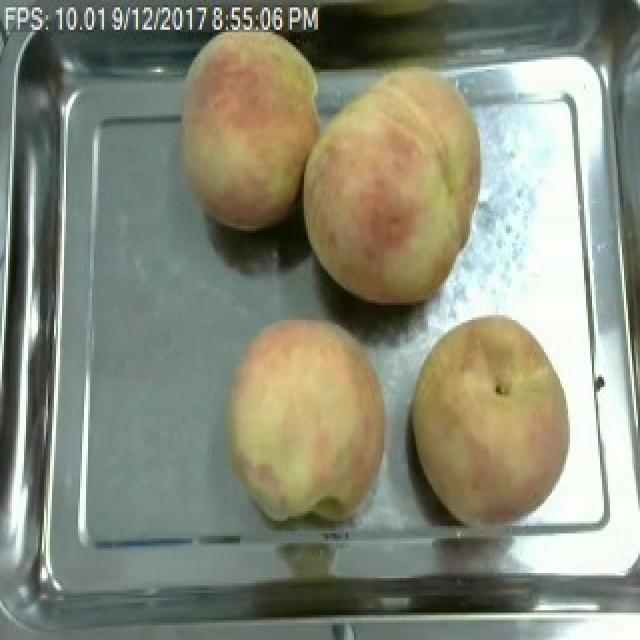Fruit: (292, 60, 492, 312), (400, 305, 580, 533), (216, 305, 398, 528), (168, 15, 332, 238)
